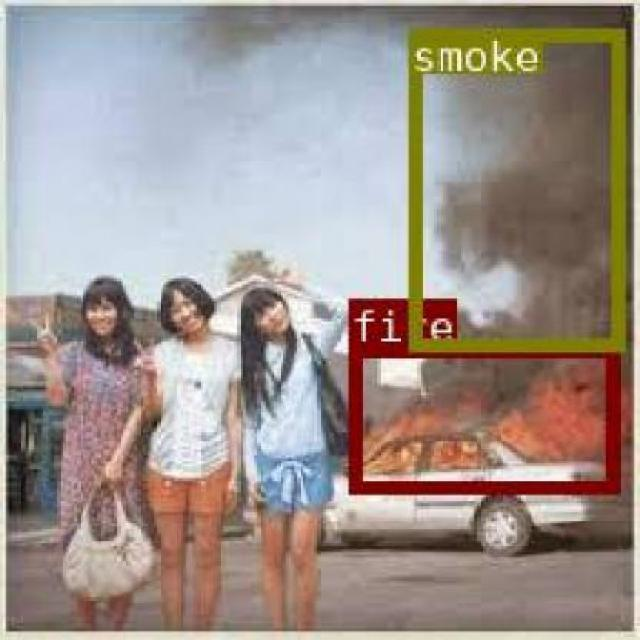fire: (348, 341, 616, 490)
smoke: (406, 26, 623, 348)
